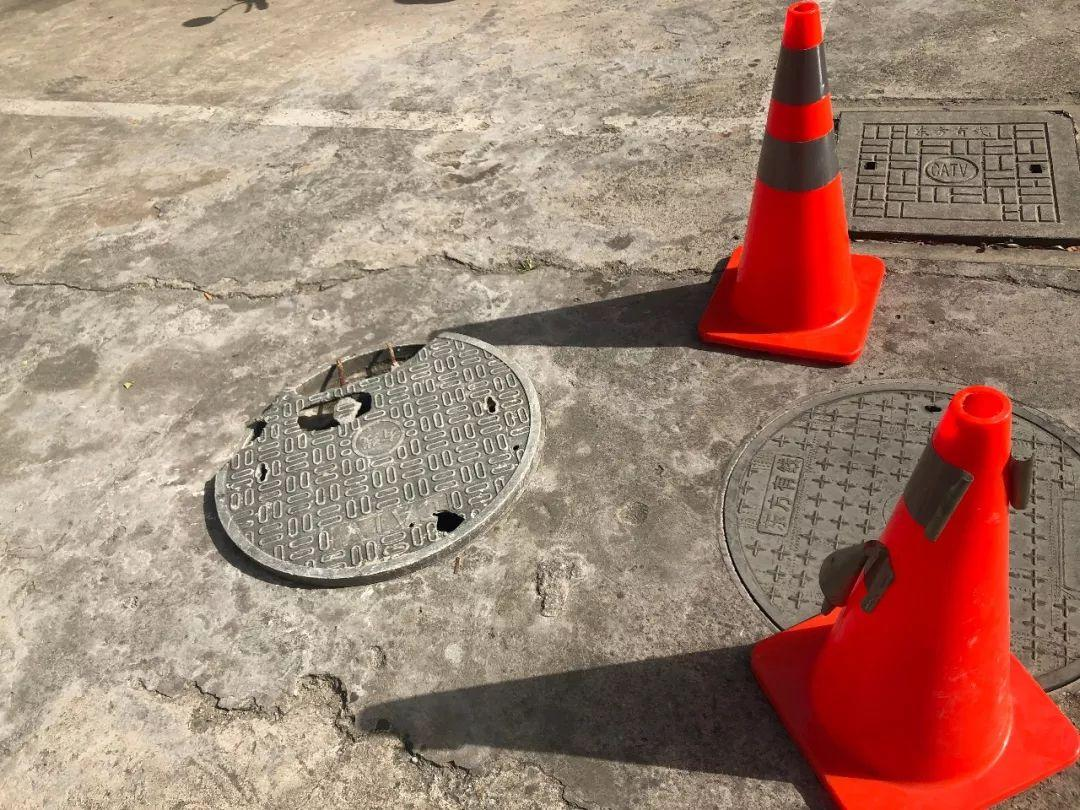wellcover: (705, 383, 1080, 702), (183, 319, 574, 598), (798, 79, 1080, 282)
